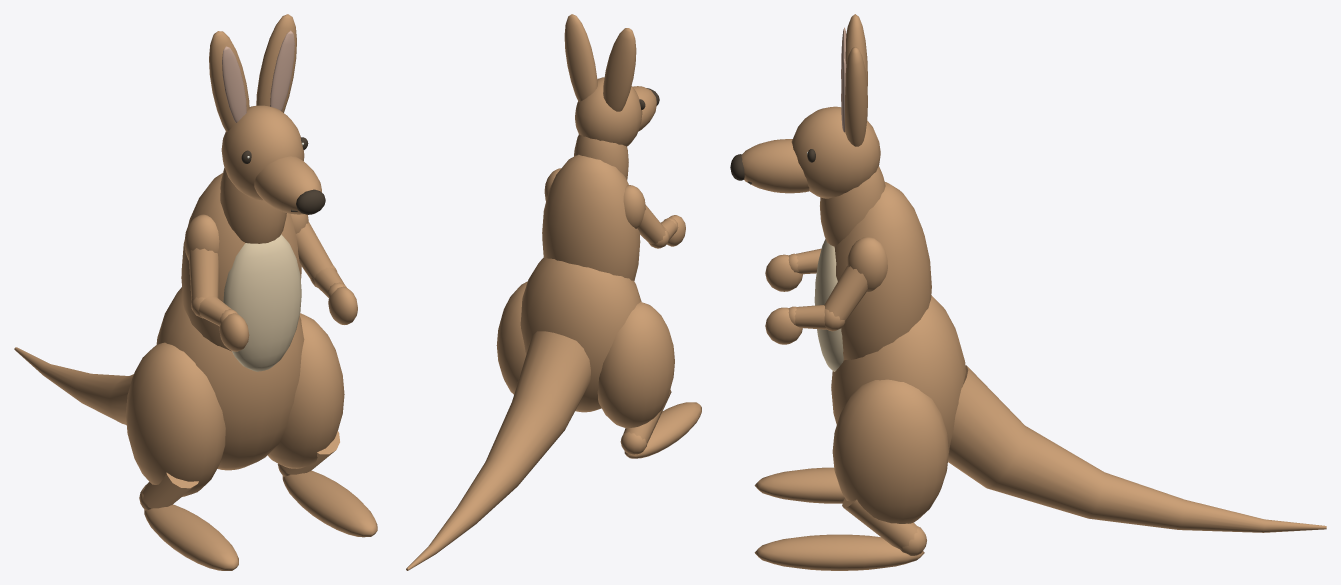
File: animal_kangaroo.glb
The picture shows the model from 3 angles, left to right: view 1: azimuth 30°, elevation 25°; view 2: azimuth 150°, elevation 25°; view 3: azimuth 270°, elevation 25°; orthographic projection. The views are drawn at different scales.
Parts seen in each view (by area): view 1: Kangaroo powerful hind thigh -1, Kangaroo rounded hips, Kangaroo cream front chest, Kangaroo powerful hind thigh 1, Kangaroo head, Kangaroo upright torso, Kangaroo long hind foot 1, Kangaroo long hind foot -1, Kangaroo long supporting tail, Kangaroo neck, Kangaroo long muzzle, Kangaroo long ear -1 (+13 smaller); view 2: Kangaroo long supporting tail, Kangaroo upright torso, Kangaroo rounded hips, Kangaroo powerful hind thigh -1, Kangaroo head, Kangaroo powerful hind thigh 1, Kangaroo long ear 1, Kangaroo long ear -1, Kangaroo long hind foot -1, Kangaroo neck, Kangaroo shoulder -1, Kangaroo upper forearm -1 (+3 smaller); view 3: Kangaroo long supporting tail, Kangaroo powerful hind thigh 1, Kangaroo upright torso, Kangaroo rounded hips, Kangaroo head, Kangaroo long hind foot 1, Kangaroo long muzzle, Kangaroo neck, Kangaroo long hind foot -1, Kangaroo long ear 1, Kangaroo cream front chest, Kangaroo shoulder 1 (+5 smaller).
Part boxes in pixels (x1=…): Kangaroo powerful hind thigh -1: x1=125, y1=342, x2=225, y2=496; Kangaroo rounded hips: x1=156, y1=287, x2=304, y2=470; Kangaroo cream front chest: x1=223, y1=234, x2=301, y2=371; Kangaroo powerful hind thigh 1: x1=267, y1=313, x2=344, y2=468; Kangaroo head: x1=221, y1=105, x2=304, y2=200; Kangaroo upright torso: x1=181, y1=173, x2=301, y2=351; Kangaroo long hind foot 1: x1=282, y1=470, x2=377, y2=537; Kangaroo long hind foot -1: x1=144, y1=504, x2=238, y2=570; Kangaroo long supporting tail: x1=14, y1=347, x2=133, y2=424; Kangaroo neck: x1=220, y1=168, x2=286, y2=243; Kangaroo long muzzle: x1=254, y1=156, x2=321, y2=214; Kangaroo long ear -1: x1=209, y1=31, x2=249, y2=132; Kangaroo long supporting tail: x1=406, y1=331, x2=590, y2=570; Kangaroo upright torso: x1=542, y1=154, x2=640, y2=280; Kangaroo rounded hips: x1=520, y1=257, x2=641, y2=412; Kangaroo powerful hind thigh -1: x1=597, y1=301, x2=674, y2=428; Kangaroo head: x1=575, y1=77, x2=642, y2=146; Kangaroo powerful hind thigh 1: x1=496, y1=281, x2=527, y2=394; Kangaroo long ear 1: x1=564, y1=14, x2=597, y2=102; Kangaroo long ear -1: x1=603, y1=28, x2=636, y2=111; Kangaroo long hind foot -1: x1=624, y1=402, x2=701, y2=458; Kangaroo neck: x1=574, y1=134, x2=628, y2=179; Kangaroo shoulder -1: x1=623, y1=185, x2=645, y2=228; Kangaroo upper forearm -1: x1=637, y1=204, x2=665, y2=244; Kangaroo long supporting tail: x1=948, y1=365, x2=1326, y2=532; Kangaroo powerful hind thigh 1: x1=832, y1=379, x2=948, y2=523; Kangaroo upright torso: x1=834, y1=182, x2=931, y2=360; Kangaroo rounded hips: x1=831, y1=295, x2=965, y2=453; Kangaroo head: x1=791, y1=106, x2=880, y2=198; Kangaroo long hind foot 1: x1=754, y1=534, x2=924, y2=570; Kangaroo long muzzle: x1=741, y1=139, x2=809, y2=193; Kangaroo neck: x1=820, y1=166, x2=885, y2=246; Kangaroo long hind foot -1: x1=754, y1=467, x2=844, y2=503; Kangaroo long ear 1: x1=845, y1=47, x2=867, y2=146; Kangaroo cream front chest: x1=814, y1=239, x2=843, y2=371; Kangaroo shoulder 1: x1=846, y1=237, x2=887, y2=291.
Size of the model in its own units: 0.81 by 1.96 by 2.1.
